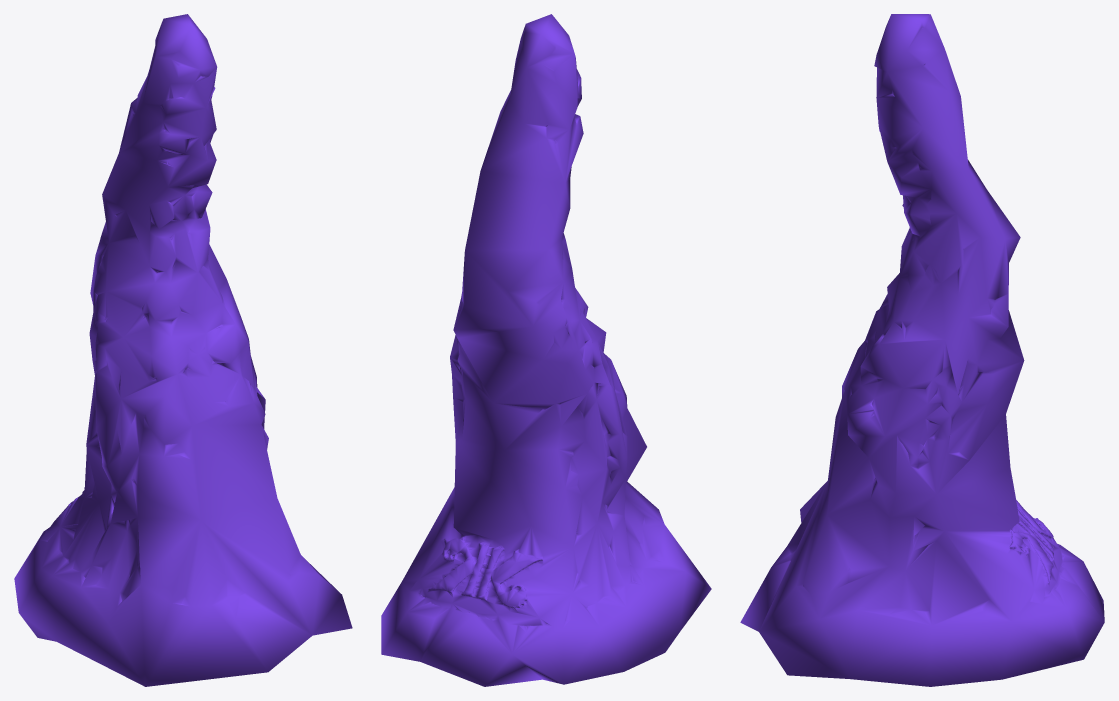
The model's file is xsmall-machine-ar.glb.
3 renders of one model, left to right at view 1: azimuth 30°, elevation 25°; view 2: azimuth 150°, elevation 25°; view 3: azimuth 270°, elevation 25°, orthographic. The views are drawn at different scales.
Bounding box in the file's own units: 0.0891 × 0.191 × 0.1029.
